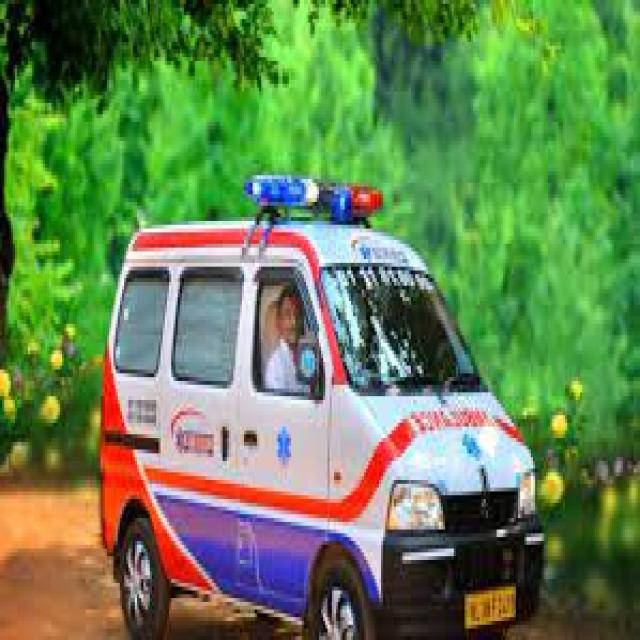ambulance: (98, 167, 540, 640)
